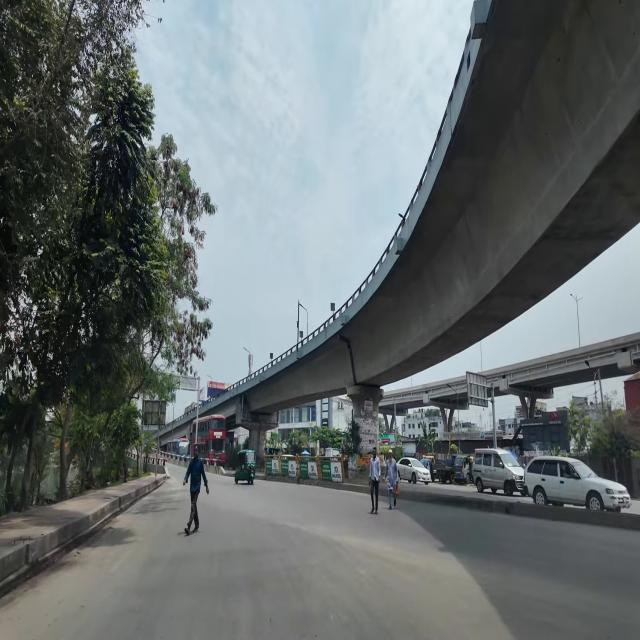person: (384, 449, 398, 510), (369, 447, 381, 514)
